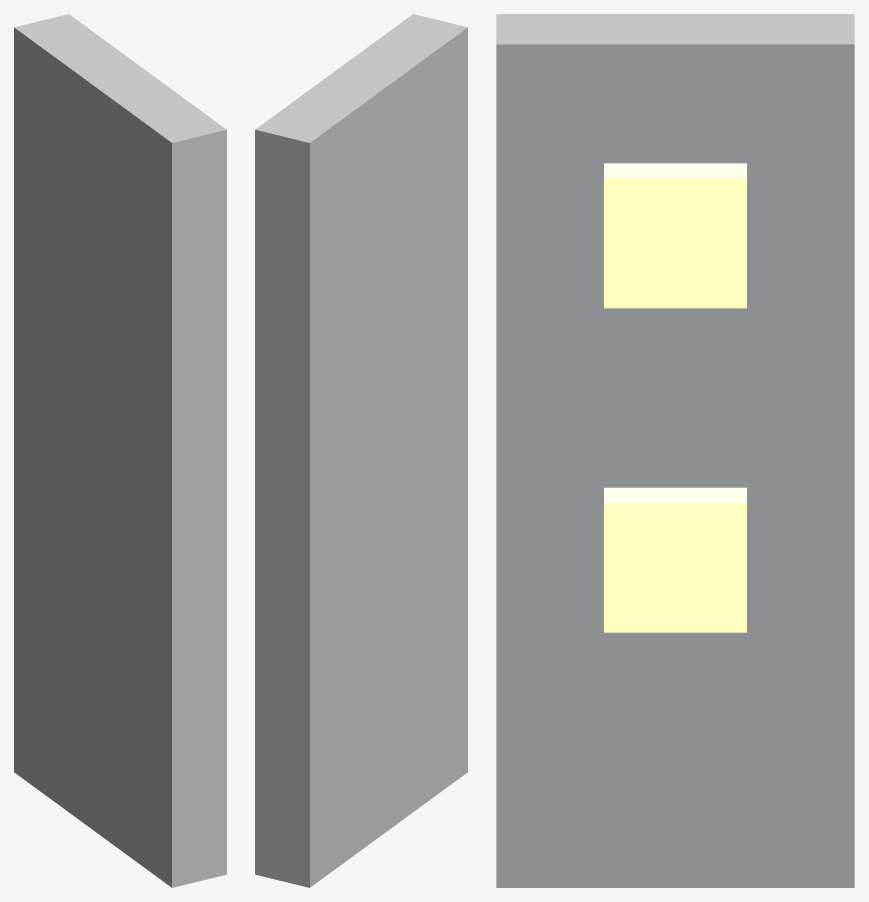
Rendered from painel_b0a2af5949.gltf.
3 views of the same model, side by side, from view 1: azimuth 30°, elevation 25°; view 2: azimuth 150°, elevation 25°; view 3: azimuth 270°, elevation 25° (orthographic). The views are drawn at different scales.
Visible parts, largest first — view 1: painel_b0a2af5949; view 2: painel_b0a2af5949; view 3: painel_b0a2af5949.
Part boxes in pixels (left/top/right/bottom): painel_b0a2af5949: left=14, top=14, right=226, bottom=887; painel_b0a2af5949: left=255, top=14, right=467, bottom=887; painel_b0a2af5949: left=496, top=14, right=854, bottom=887.
Bounding box in the file's own units: 0.09 × 0.78 × 0.3.
